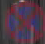No Stopping: (3, 2, 44, 40)
